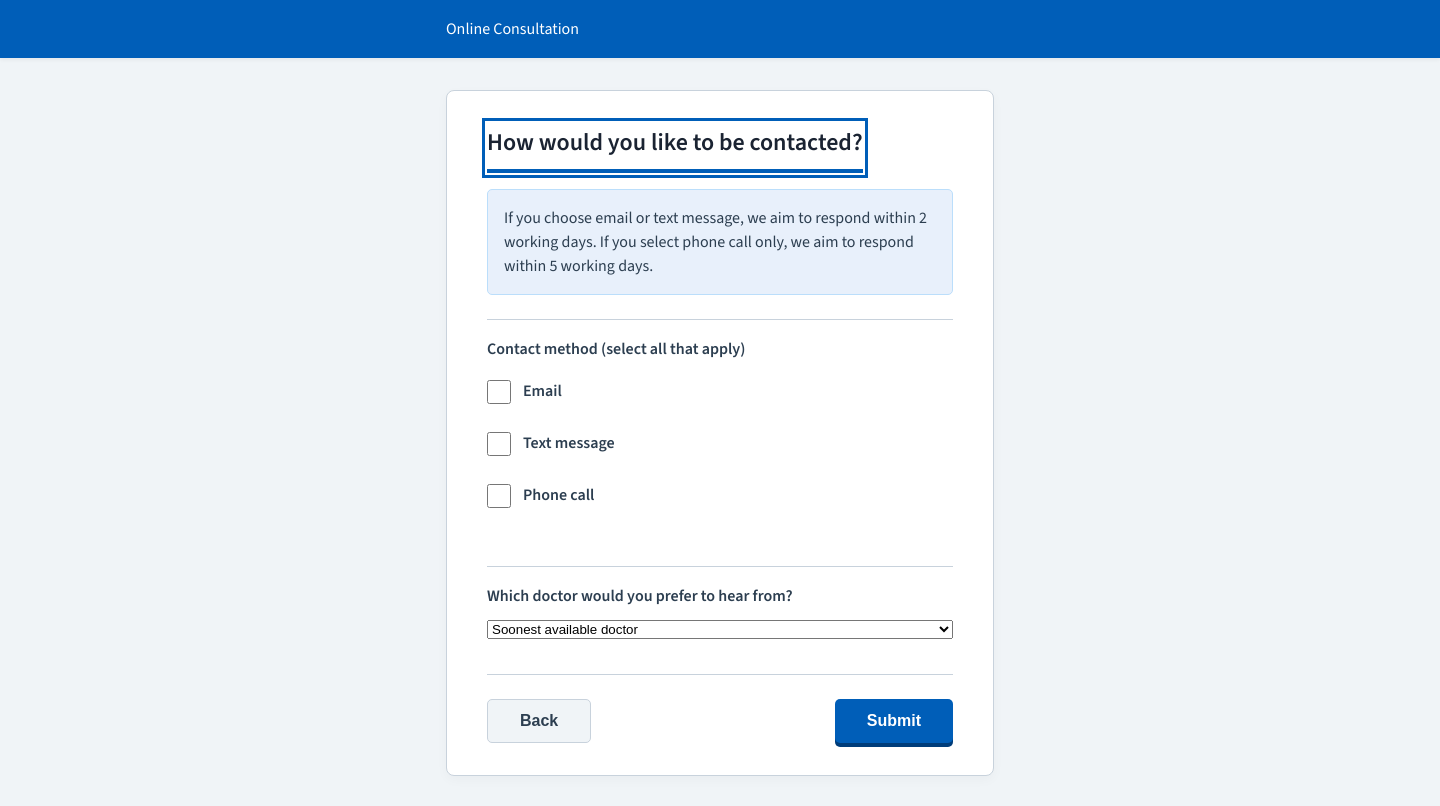
Test: ContactScreen › usual doctor name field appears when doctor preference is usual (legacy path)
The width and height of the screenshot is (1440, 806).
Select "I would prefer my usual doctor" in the dropdown with id "doctor-preference": (720, 630) [487,620,953,639]
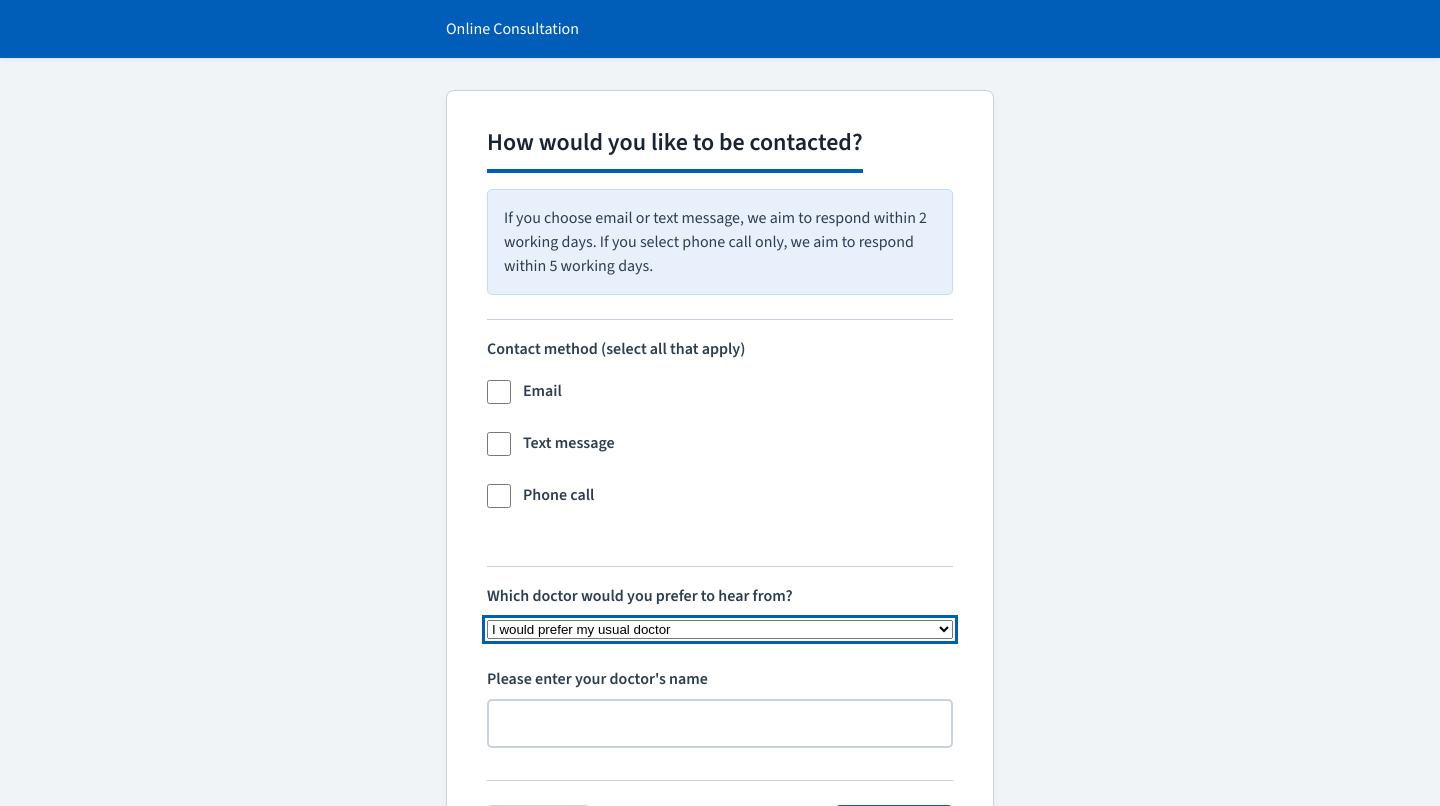
Check: the field with id "usual-doctor-name" is shown, box [487,699,953,748]
